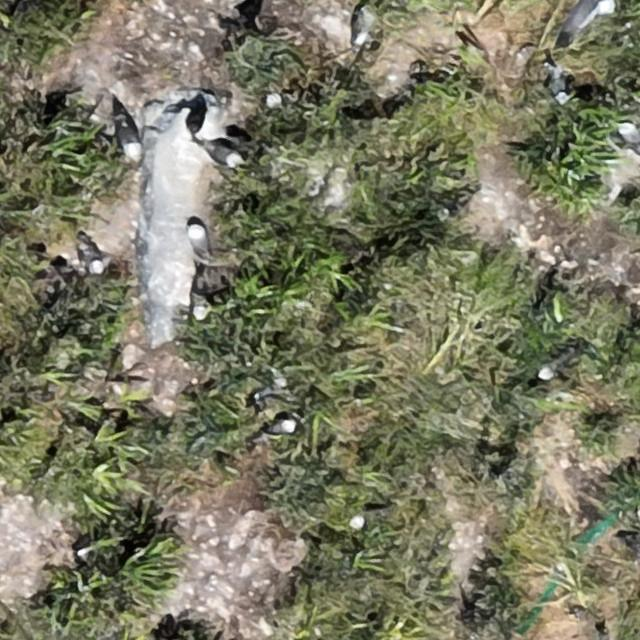umineko: (205, 142, 241, 166), (118, 120, 138, 155), (188, 224, 208, 257), (355, 11, 373, 45), (540, 355, 566, 378), (620, 123, 639, 153), (264, 418, 294, 434)
